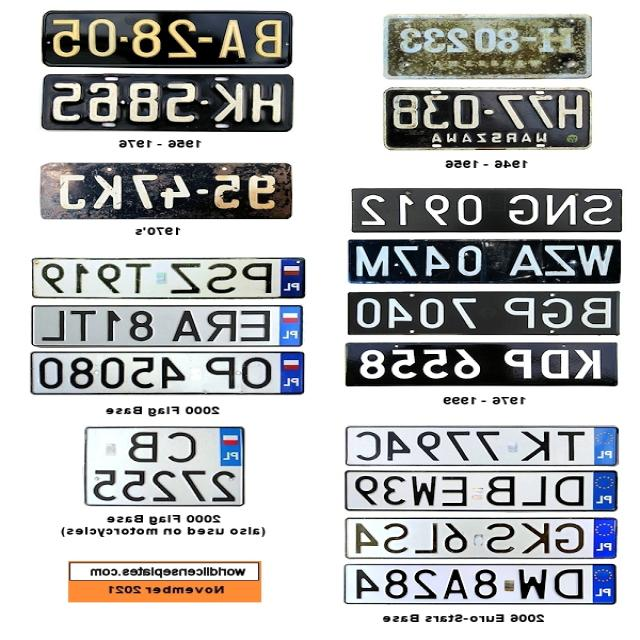pl_license_plate: (42, 162, 291, 218), (384, 12, 593, 78), (43, 9, 292, 64), (43, 74, 292, 129), (385, 85, 594, 150), (87, 426, 245, 505), (351, 188, 624, 233), (350, 239, 623, 283), (349, 290, 622, 334), (349, 342, 622, 386), (32, 352, 306, 394), (346, 516, 620, 558), (344, 563, 618, 605), (31, 256, 305, 297), (31, 305, 305, 346), (344, 470, 618, 511), (347, 425, 620, 466)
